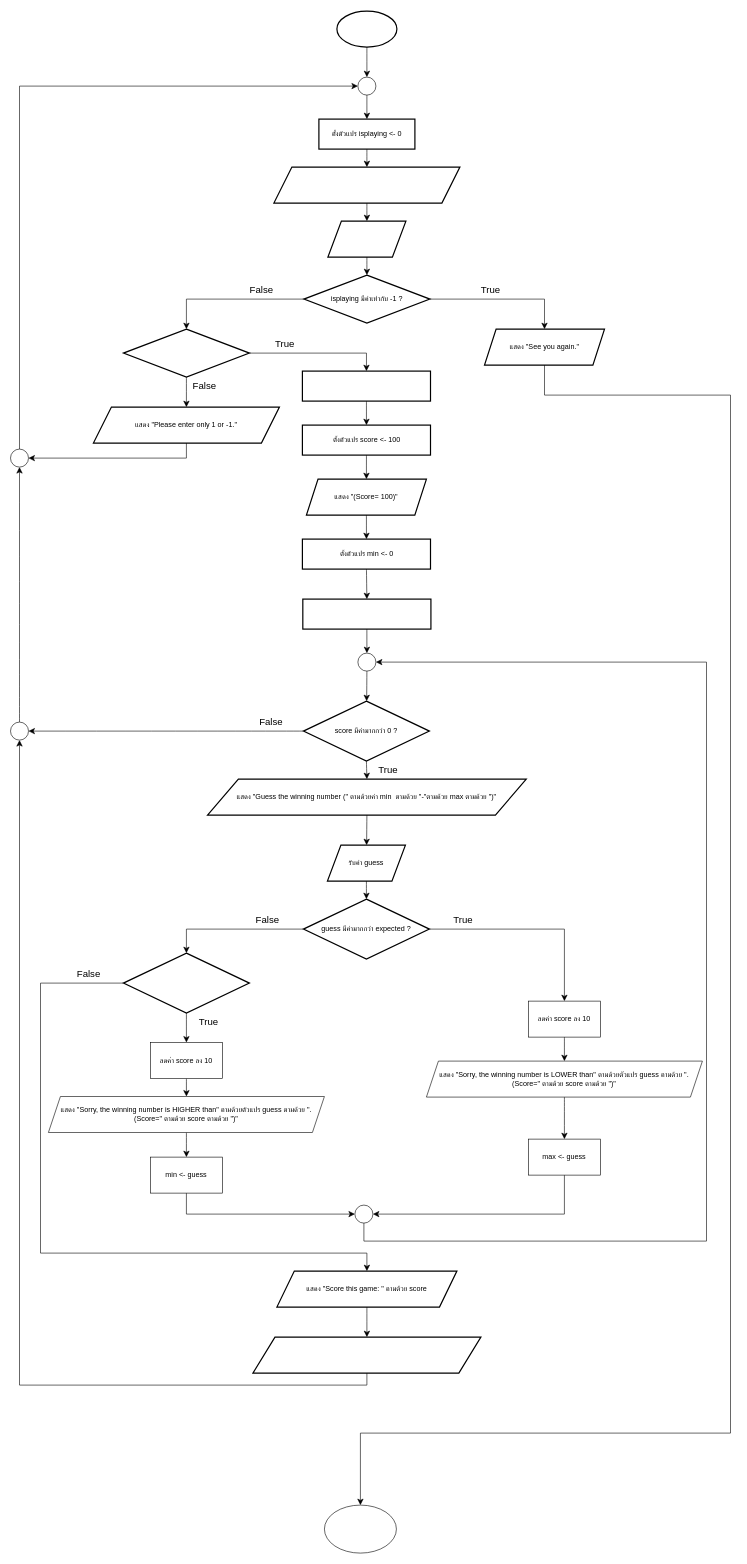
This 747x1564 diagram has some shape labels left out. Each missing label, with the centre of its shape:
End: point (360, 1528)
guess มีค่าน้อยกว่า expected ?: point (186, 982)
isplaying มีค่าเท่ากับ 1 ?: point (186, 352)
Start: point (366, 28)
ตั้งตัวแปร expected <- สุ่มเลข 1 ถึง 100: point (366, 385)
ตั้งตัวแปร max <- 100: point (366, 613)
รับค่า isplaying: point (366, 238)
แสดง "Do you want to play game (1=play,-1=exit) :": point (366, 184)
แสดง "That is correct ! The winning number is " ตามด้วย expected: point (366, 1354)
